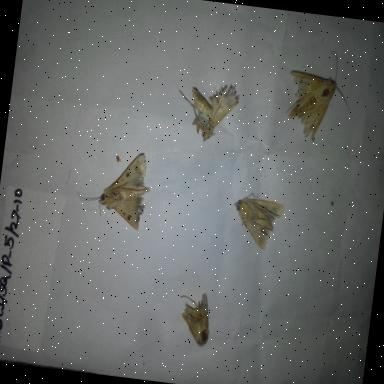abw: (276, 42, 360, 149), (70, 145, 156, 236), (172, 68, 244, 148), (226, 185, 289, 256), (168, 282, 222, 356)
